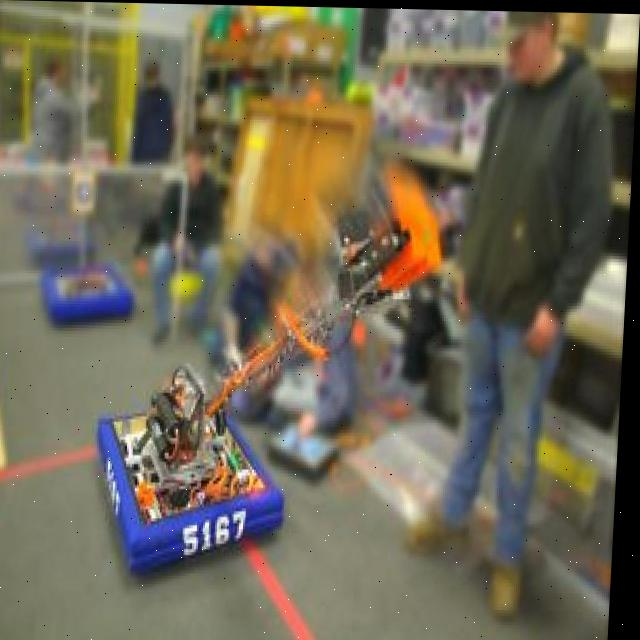robot: (78, 176, 457, 600), (42, 244, 140, 345)
